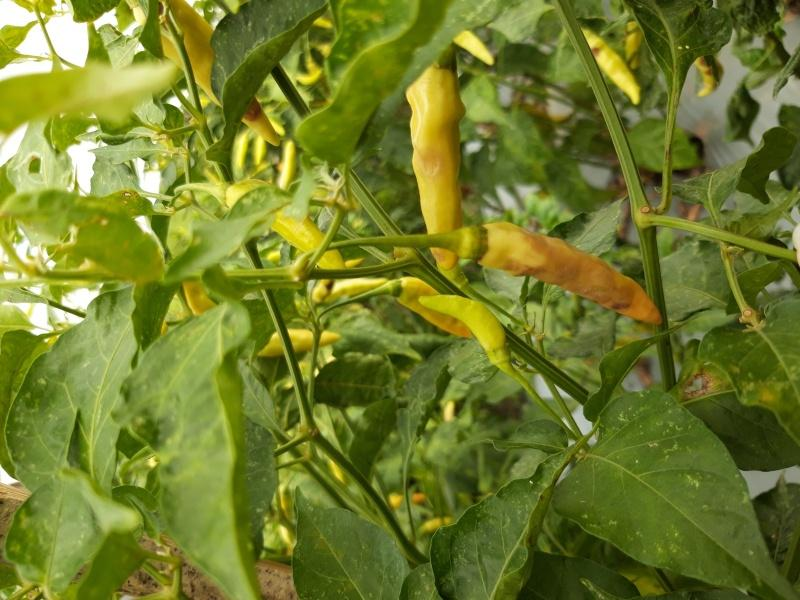antraknosa: (167, 1, 284, 146), (408, 66, 465, 269)
cabai_normal: (227, 179, 340, 270), (417, 293, 508, 354), (577, 26, 641, 105)
lalat_buah: (480, 222, 662, 323)
